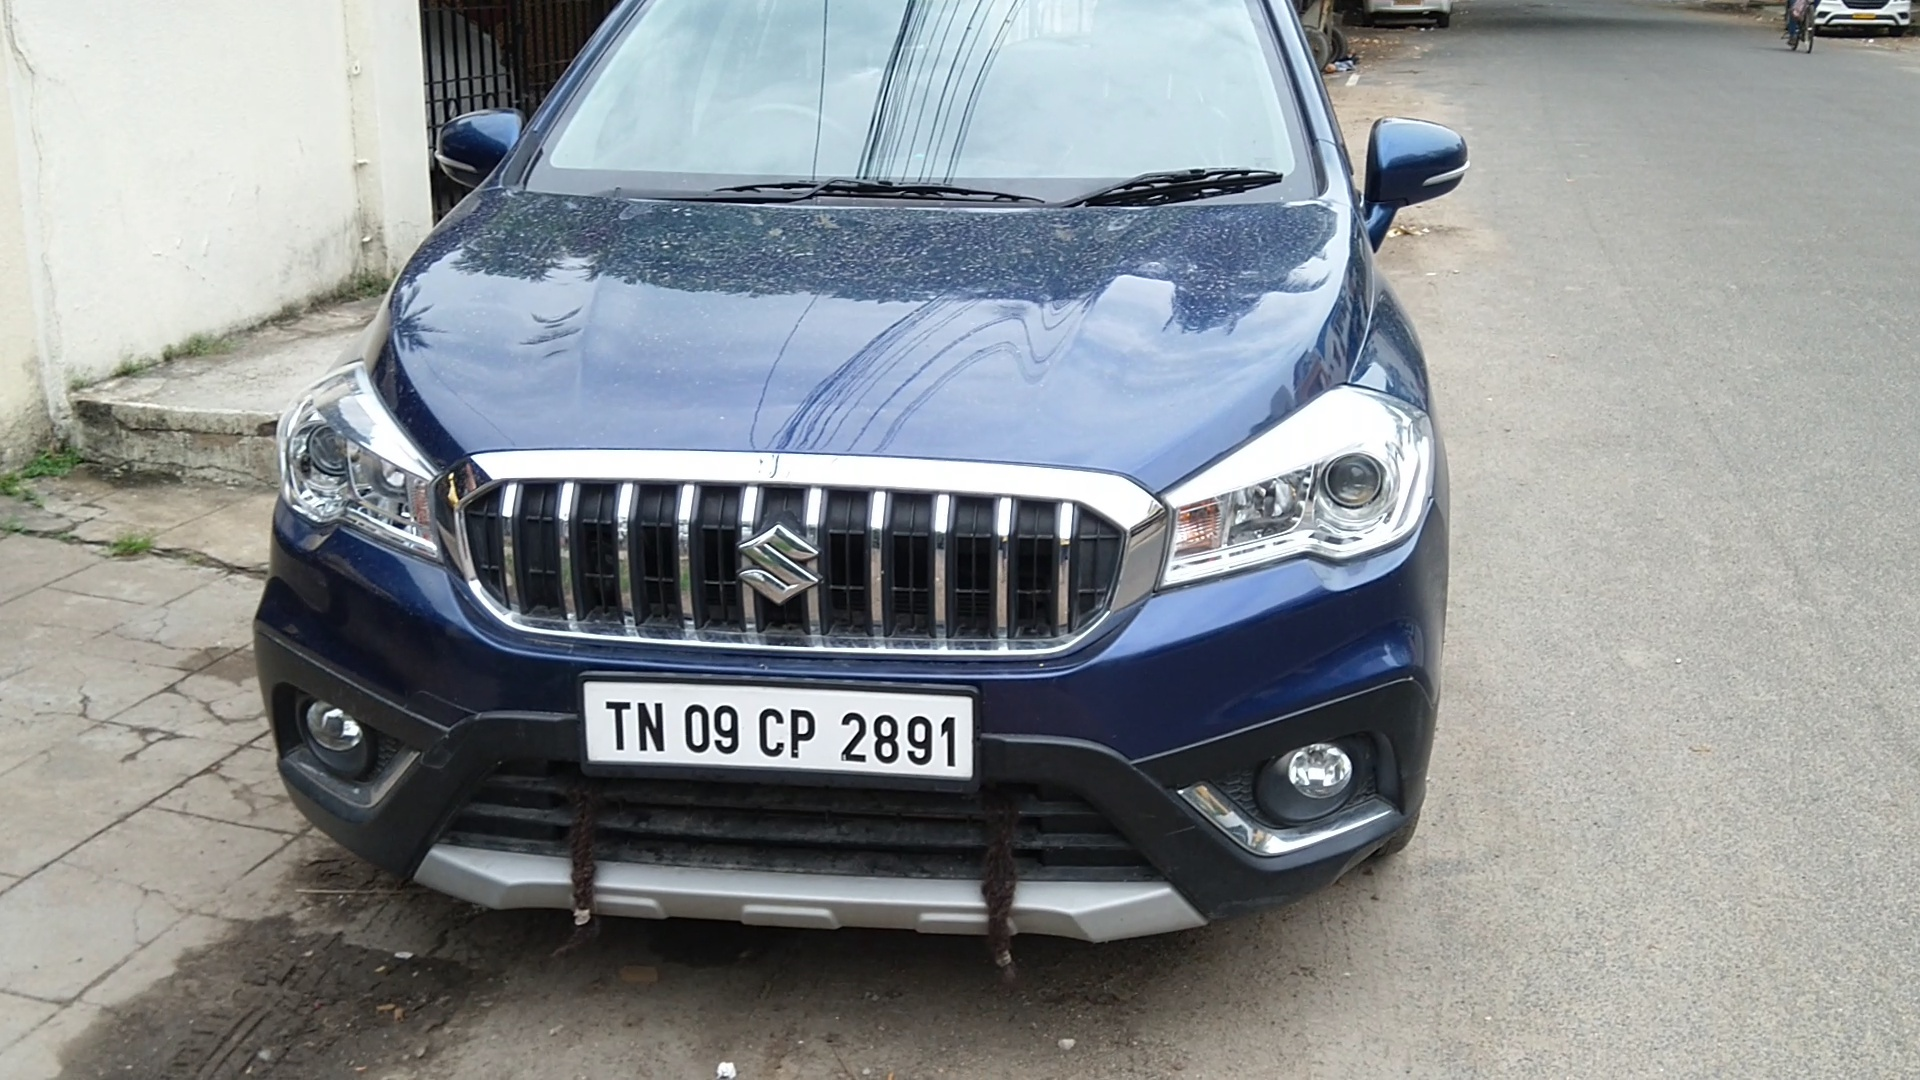front_grill: (450, 448, 1153, 678)
headlamp: (1145, 372, 1451, 599), (282, 361, 444, 555)
ovr_mirror: (1364, 108, 1476, 219), (433, 105, 535, 187)
